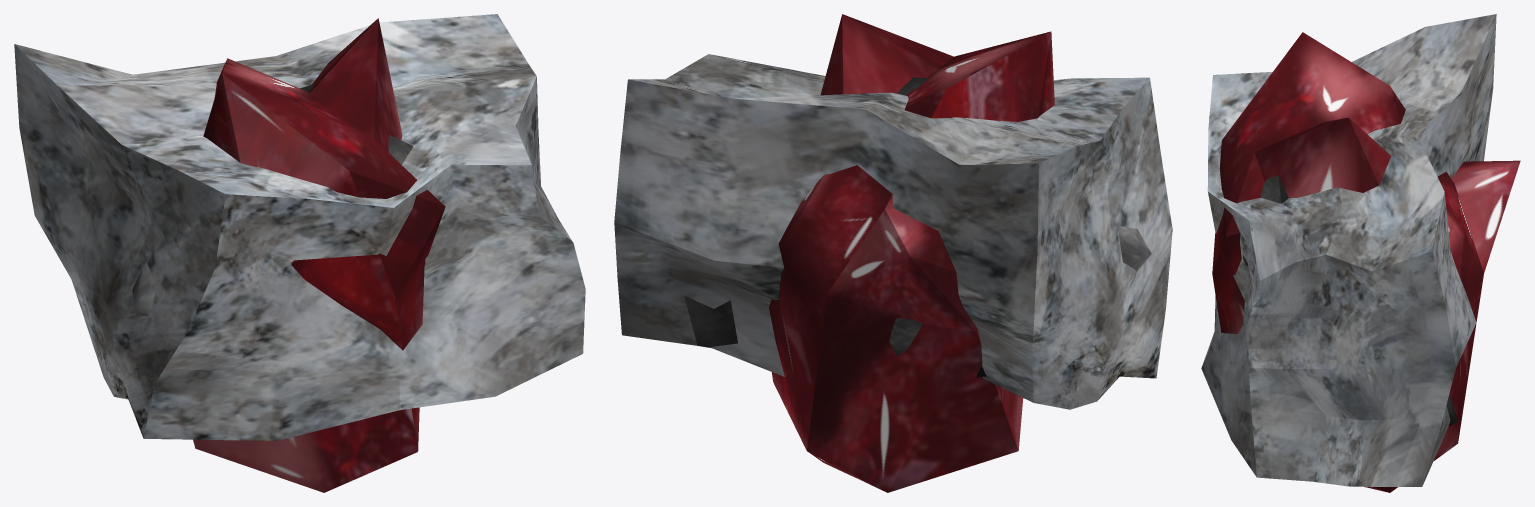
File: PedrasTank.fbx
The picture shows the model from 3 angles, left to right: view 1: azimuth 30°, elevation 25°; view 2: azimuth 150°, elevation 25°; view 3: azimuth 270°, elevation 25°; orthographic projection. The views are drawn at different scales.
Visible parts, largest first — view 1: Granito, Rubi, Hematita; view 2: Granito, Rubi, Hematita; view 3: Granito, Rubi, Hematita.
Part boxes in pixels (box(x1,y1,x2,y2)): Granito: box(14, 14, 585, 440); Rubi: box(193, 18, 445, 492); Hematita: box(132, 84, 438, 316); Granito: box(614, 54, 1172, 409); Rubi: box(769, 14, 1054, 492); Hematita: box(684, 77, 1151, 377); Granito: box(1201, 14, 1496, 486); Rubi: box(1212, 32, 1520, 492); Hematita: box(1243, 176, 1457, 426).
Bounding box in the file's own units: 343 × 315 × 235.
